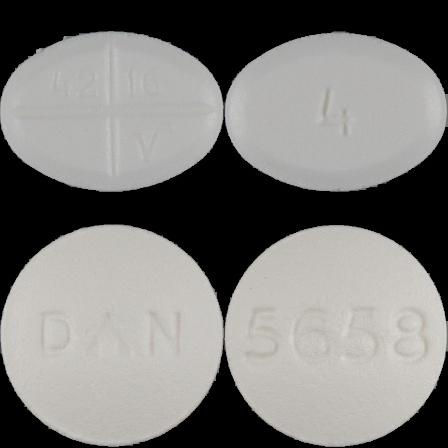0904-6574: (0, 0, 224, 224)
